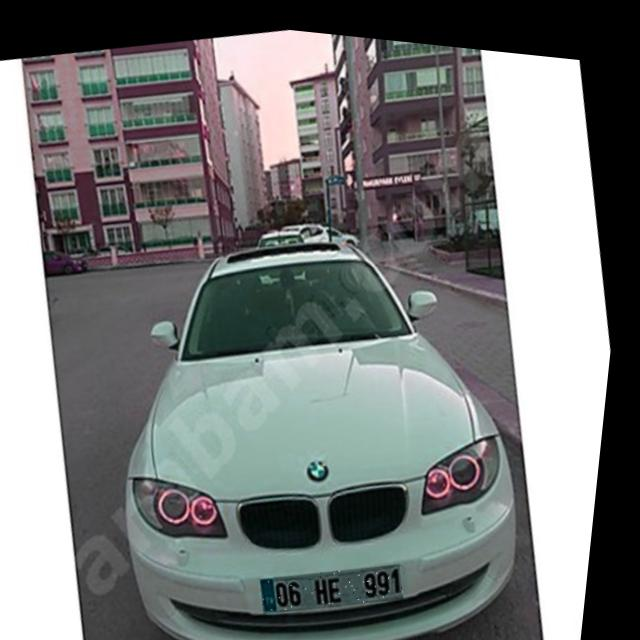license_plate: (269, 543, 418, 618)
